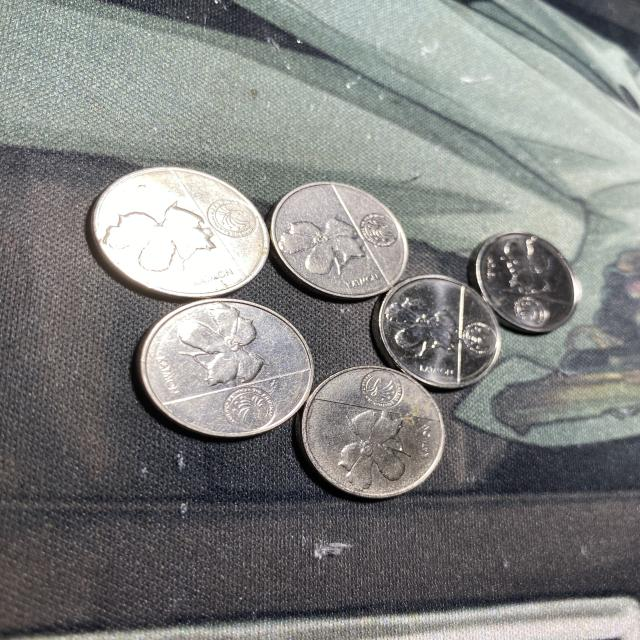25Cent_New_Back: (171, 311, 282, 390), (317, 411, 423, 492), (272, 220, 381, 280), (386, 291, 465, 359)
